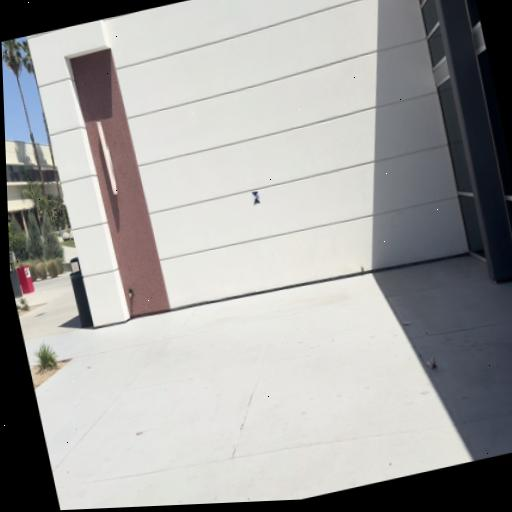target0: (251, 189, 260, 205)
